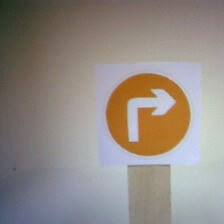right: (97, 64, 199, 162)
